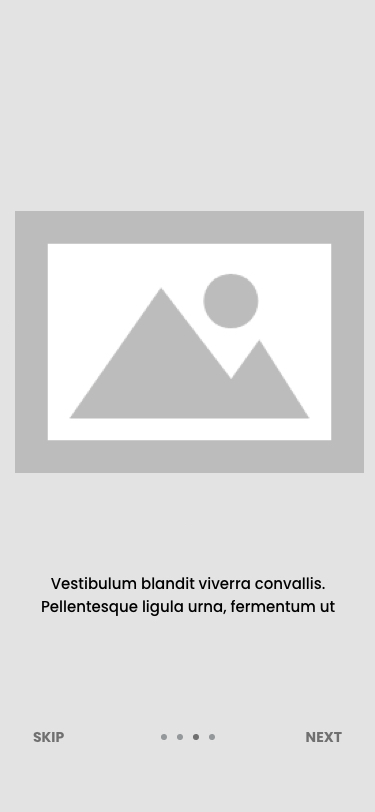Image: (15, 211, 365, 474)
PageIndicator: (160, 733, 216, 741)
Text: (42, 576, 336, 618), (305, 731, 342, 743), (34, 731, 65, 743)
